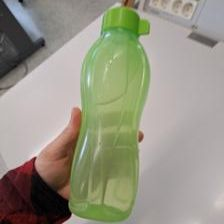bottle: (64, 8, 154, 224)
